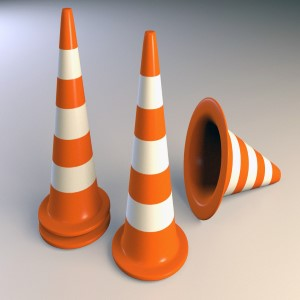traffic cone: (112, 30, 188, 281), (38, 7, 110, 238), (183, 96, 281, 220)
